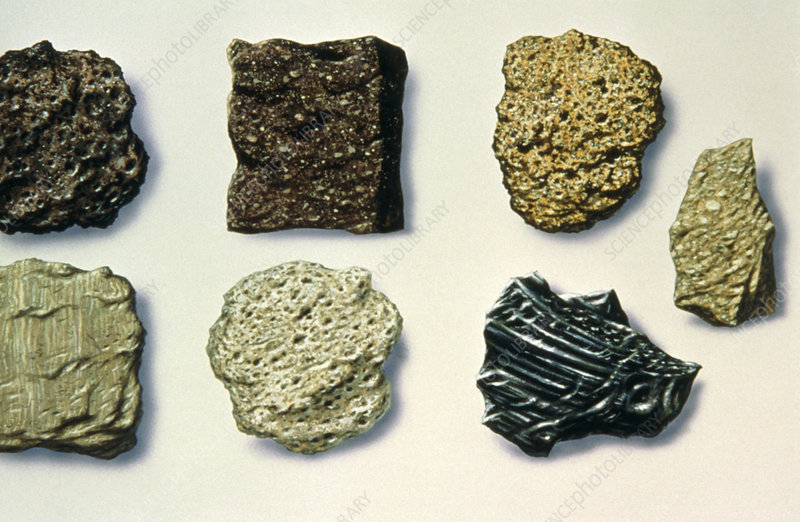volcanic_rock: (204, 259, 412, 475), (488, 27, 668, 235), (1, 31, 176, 243)
